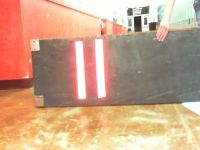switch: (95, 39, 108, 98), (74, 41, 87, 99)
